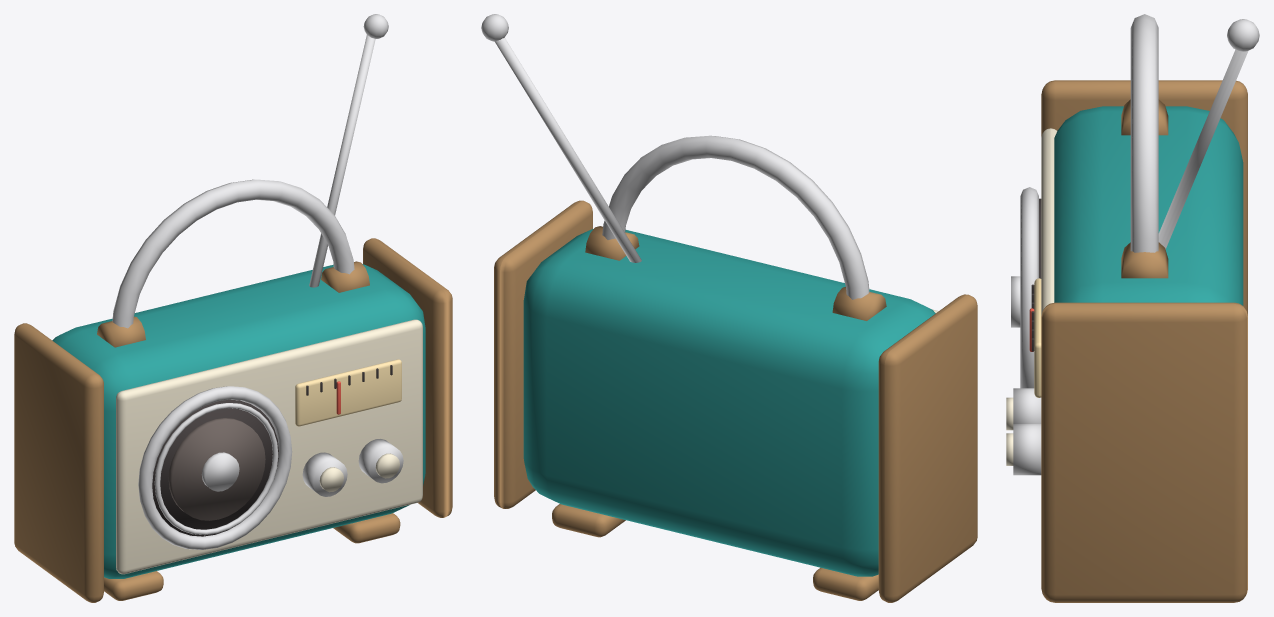
Rendered from radio.glb.
3 views of the same model, side by side, from view 1: azimuth 30°, elevation 25°; view 2: azimuth 150°, elevation 25°; view 3: azimuth 270°, elevation 25° (orthographic). The views are drawn at different scales.
Parts seen in each view (by area): view 1: radio-honey wood, radio-cream radio face, radio-teal radio body, radio-chrome, speaker-chrome, speaker-speaker cone, radio-dial glass, speaker-speaker grille; view 2: radio-teal radio body, radio-honey wood, radio-chrome; view 3: radio-honey wood, radio-teal radio body, radio-chrome, speaker-chrome, radio-cream radio face, radio-dial glass.
Part boxes in pixels (box(x1,y1,x2,y2)): radio-honey wood: box(14, 238, 452, 602); radio-cream radio face: box(116, 319, 422, 574); radio-teal radio body: box(52, 264, 425, 578); radio-chrome: box(112, 14, 403, 496); speaker-chrome: box(138, 386, 292, 549); speaker-speaker cone: box(168, 418, 265, 520); radio-dial glass: box(295, 359, 401, 426); speaker-speaker grille: box(152, 399, 278, 536); radio-teal radio body: box(523, 229, 935, 576); radio-honey wood: box(494, 200, 977, 602); radio-chrome: box(481, 14, 869, 299); radio-honey wood: box(1041, 80, 1247, 602); radio-teal radio body: box(1054, 106, 1243, 305); radio-chrome: box(1013, 14, 1259, 475); speaker-chrome: box(1011, 187, 1038, 388); radio-cream radio face: box(1006, 128, 1057, 465); radio-dial glass: box(1034, 278, 1041, 397).
Bounding box in the file's own units: 1.2 × 1.42 × 0.54.
